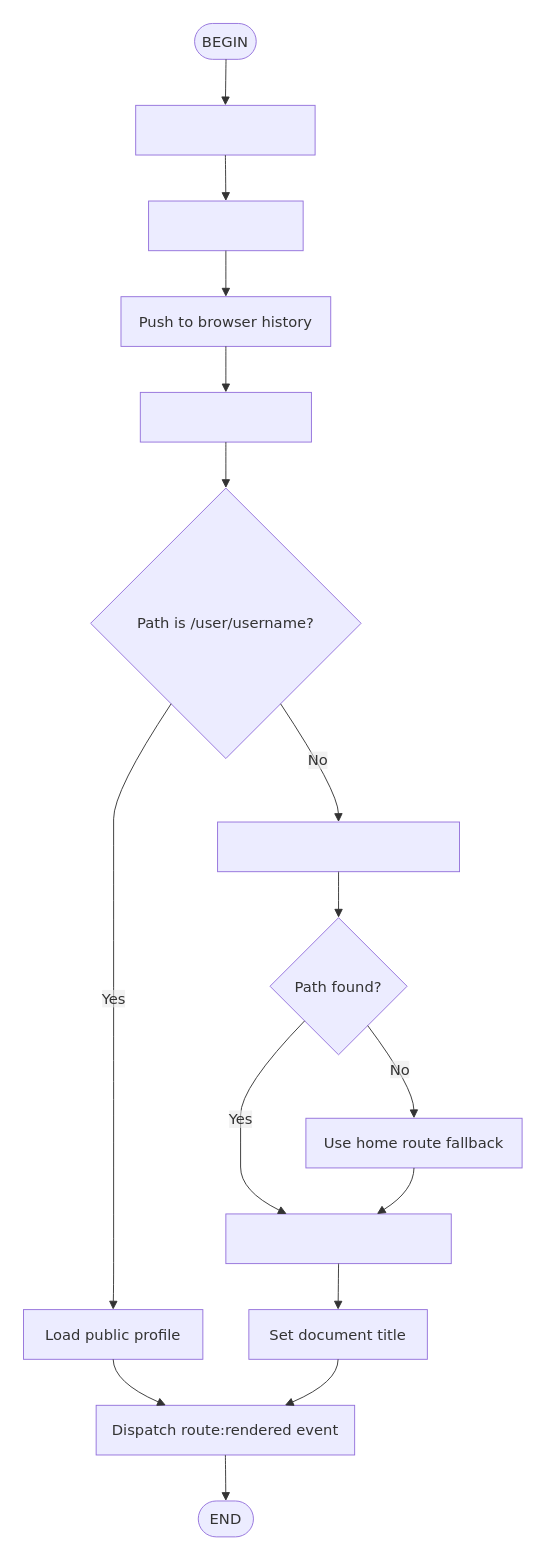
This 538x1553 diagram has some shape labels left out. The shapes that lost their labels are listed below. From the top down, each one's centre as x and y in pixels, then its label:
At [225,129]: "RECEIVE pathname".
At [225,225]: "Normalise path".
At [225,416]: "Extract username".
At [338,846]: "Look up path in routes table".
At [338,1238]: "Write route HTML to #app".
